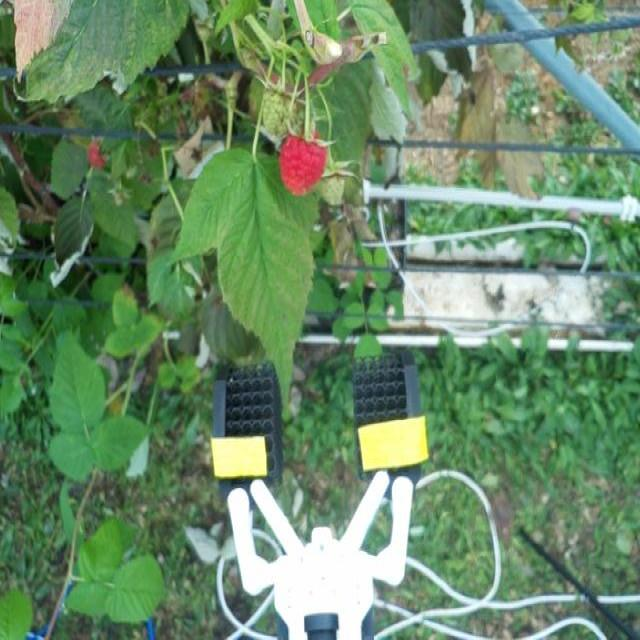Riped berries: (276, 129, 329, 196)
